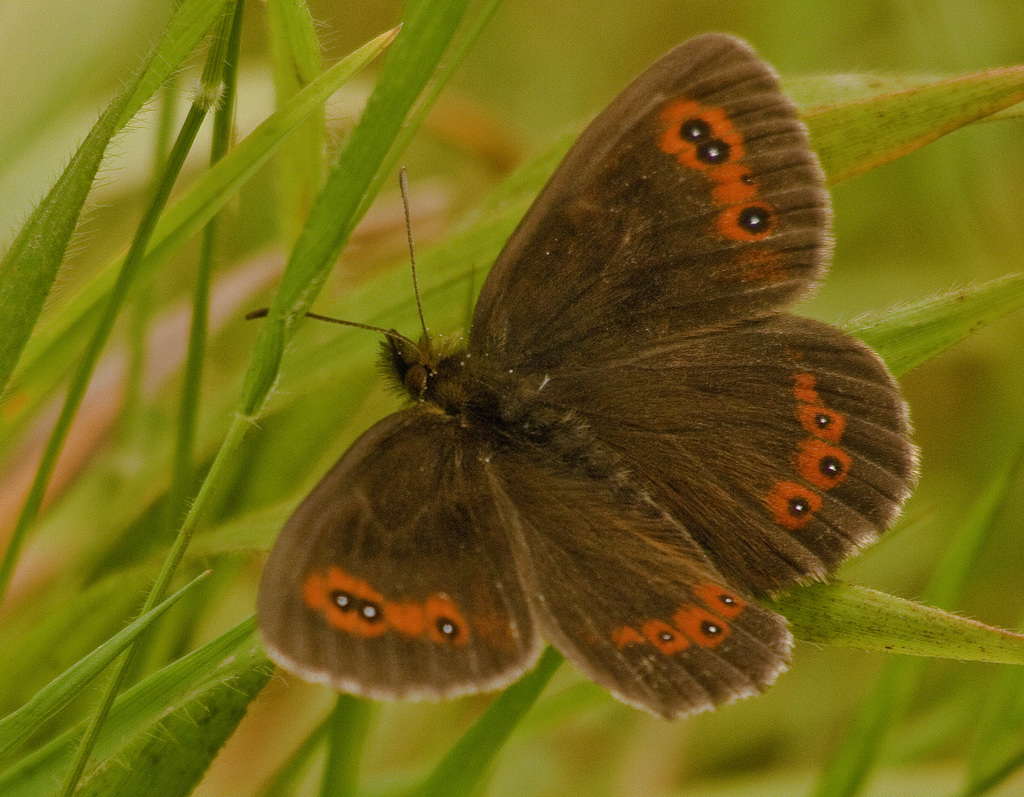Butterfly: (241, 42, 948, 710)
